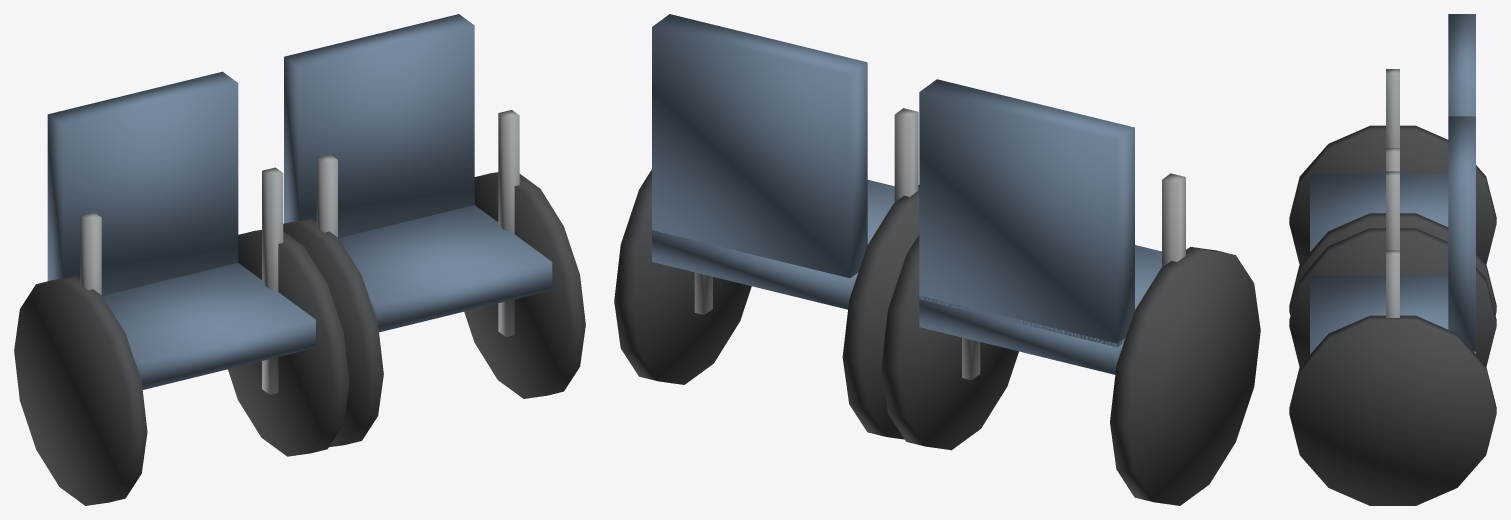
The model's file is wheelchair__cluster.glb.
The picture shows the model from 3 angles, left to right: view 1: azimuth 30°, elevation 25°; view 2: azimuth 150°, elevation 25°; view 3: azimuth 270°, elevation 25°; orthographic projection. The views are drawn at different scales.
Visible parts, largest first — view 1: world; view 2: world; view 3: world.
Boxes of the visible parts, x1=… form: world: x1=14, y1=14, x2=585, y2=505; world: x1=614, y1=14, x2=1260, y2=505; world: x1=1289, y1=14, x2=1496, y2=505.
Bounding box in the file's own units: 1.35 × 0.9725 × 0.6.
